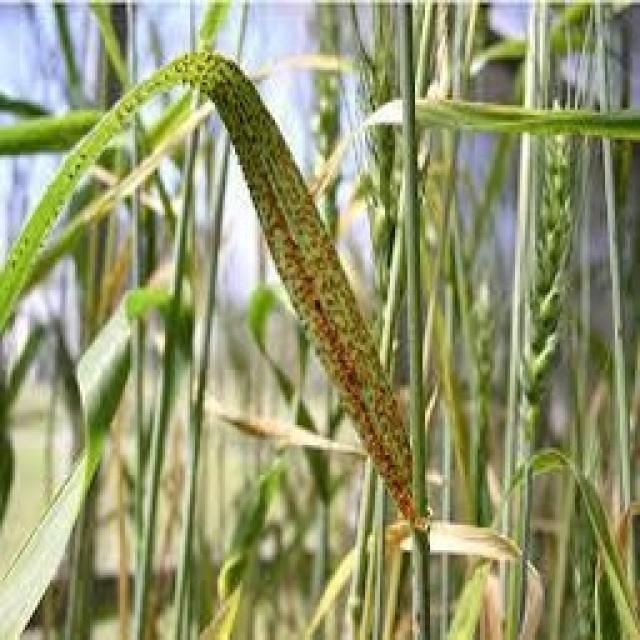Brown Rust: (188, 50, 430, 530)
Healthy Wheat: (0, 0, 638, 638)
